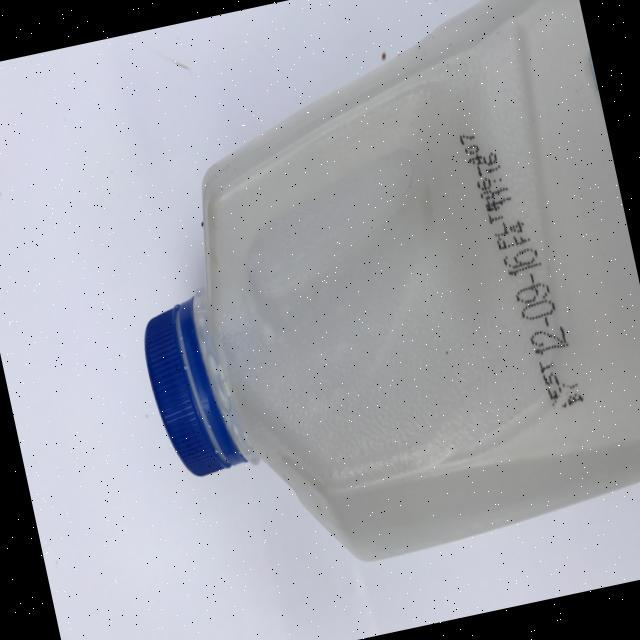plastic: (81, 0, 640, 599)
